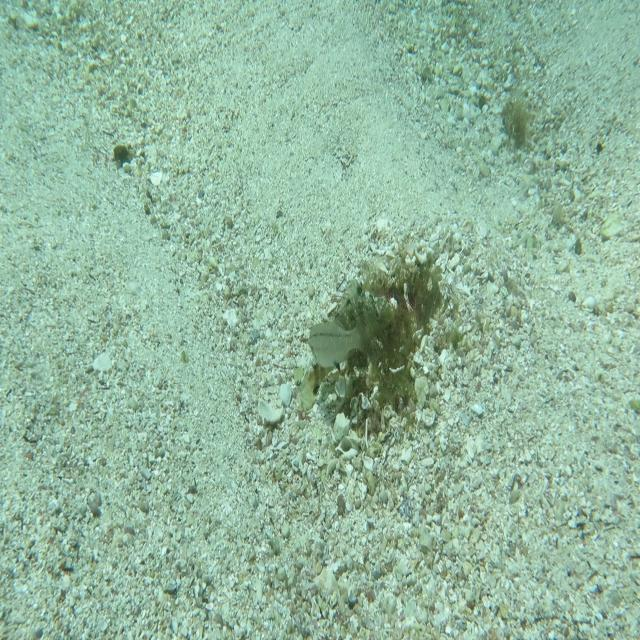BEND: (293, 278, 399, 414)
female: (307, 316, 382, 372)
nest: (327, 236, 447, 432)
